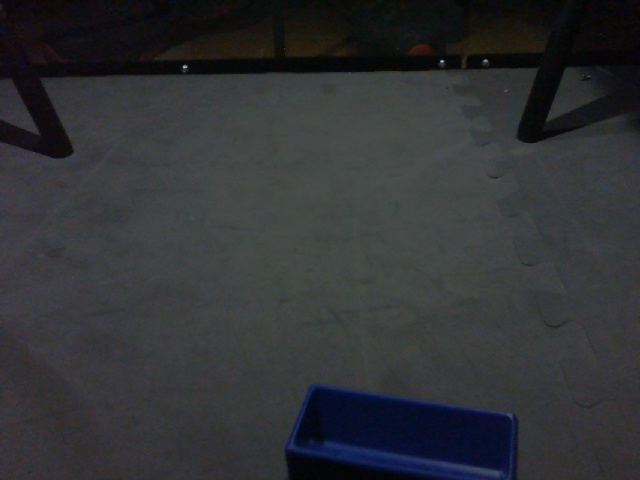BlueSample: (276, 373, 528, 480)
